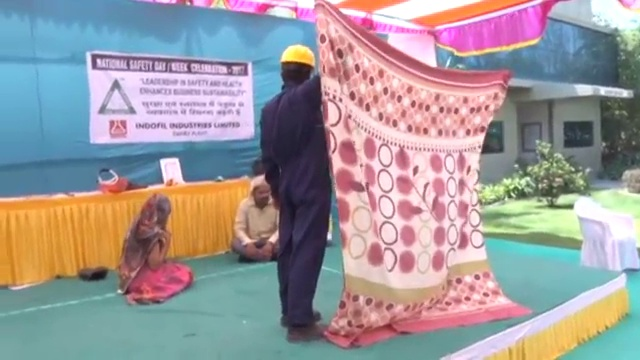helmet: (280, 42, 316, 69)
helmet_off: (146, 195, 172, 221), (251, 176, 271, 209)
helmet_on: (279, 42, 316, 86)
person: (259, 41, 336, 342), (120, 195, 192, 303), (229, 174, 279, 261)
